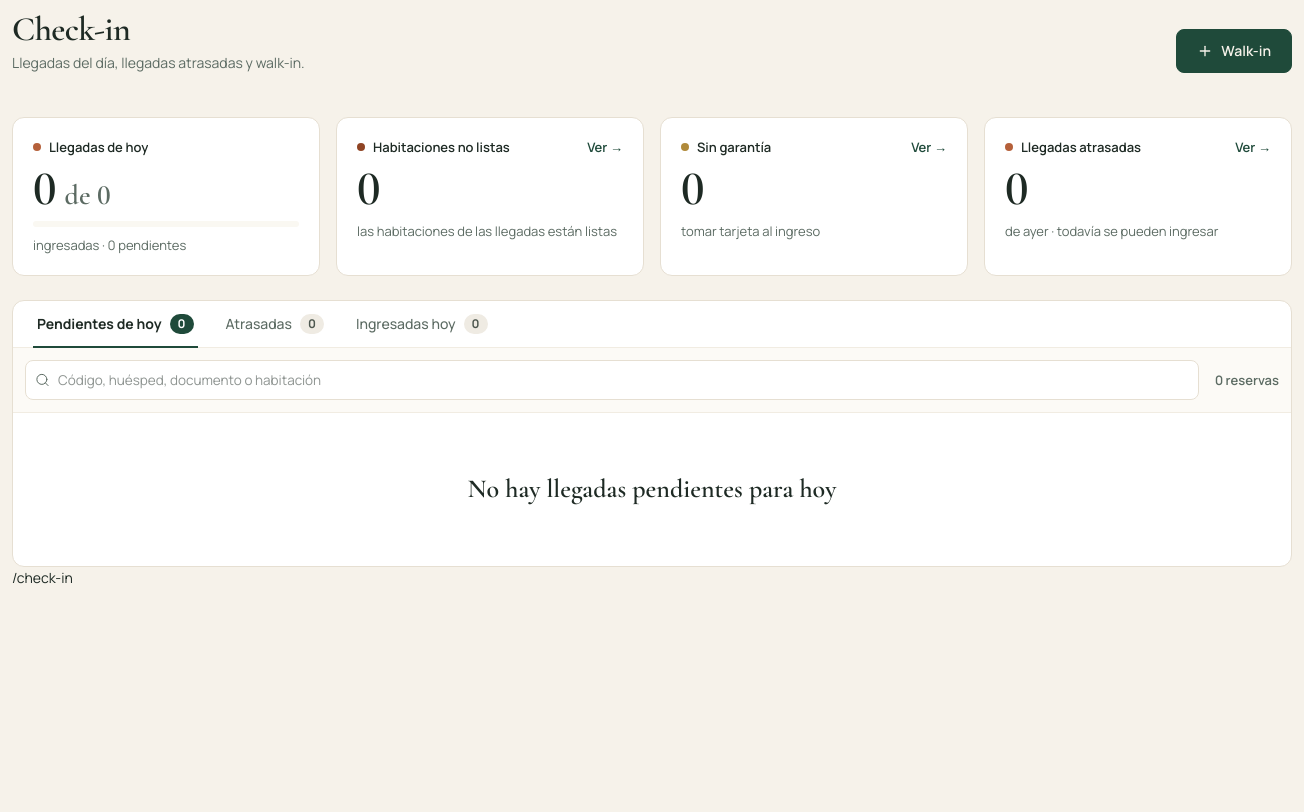
Test: estados de la pantalla › vacíos por pestaña
Expected: the text "No hay llegadas pendientes para hoy" is shown, [468, 469, 836, 510]
Click the tab "Atrasadas 0": (275,325) [222, 301, 328, 348]
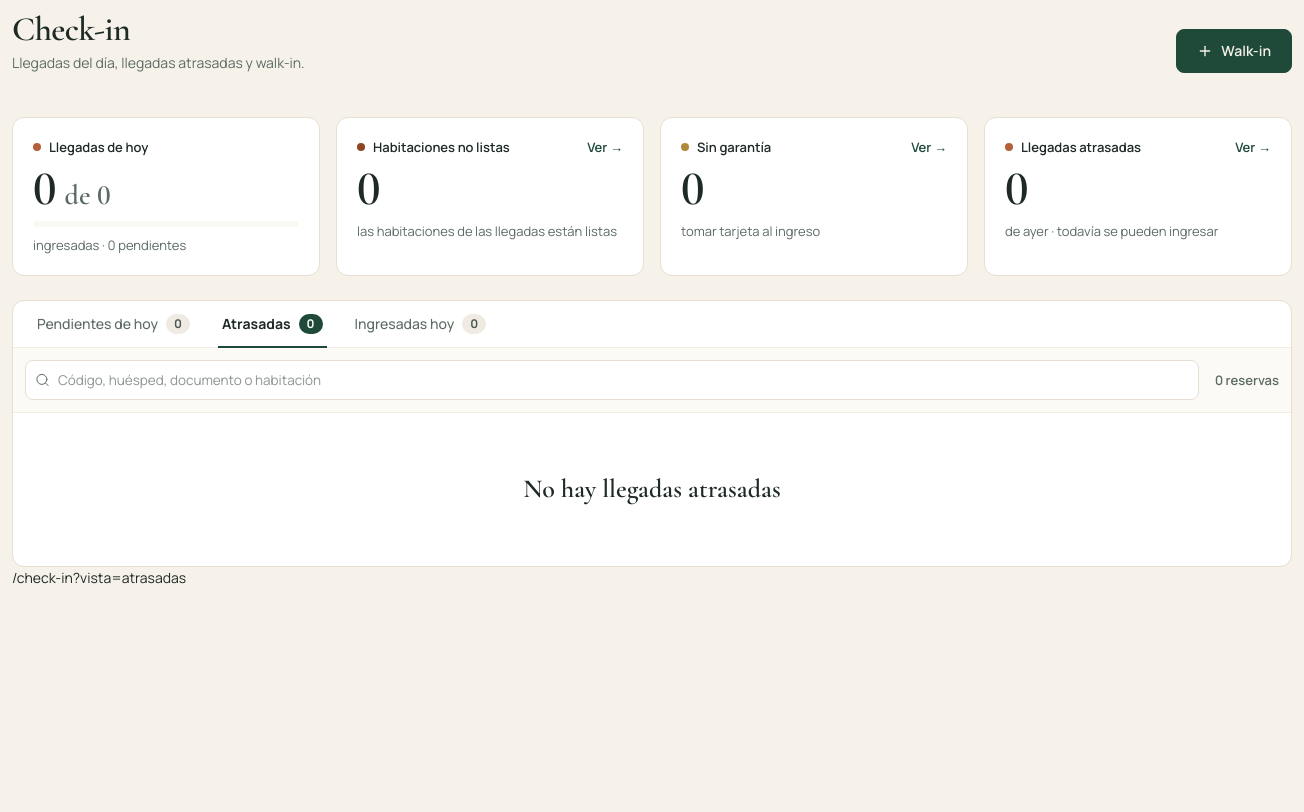
Now the text "No hay llegadas atrasadas" is shown, box [523, 469, 781, 510]
Click the tab "Ingresadas hoy 0": (420,325) [350, 301, 490, 348]
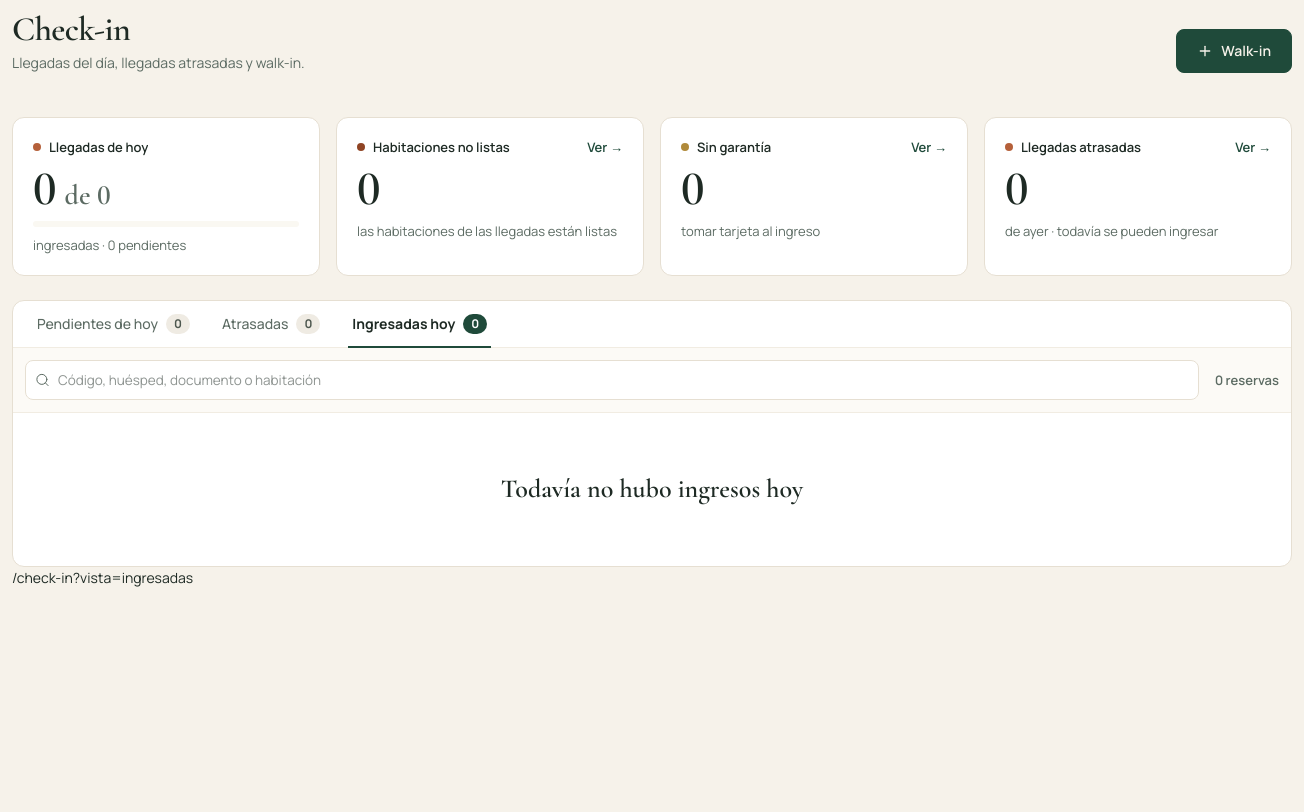
Now the text "Todavía no hubo ingresos hoy" is shown, box [501, 469, 803, 510]
